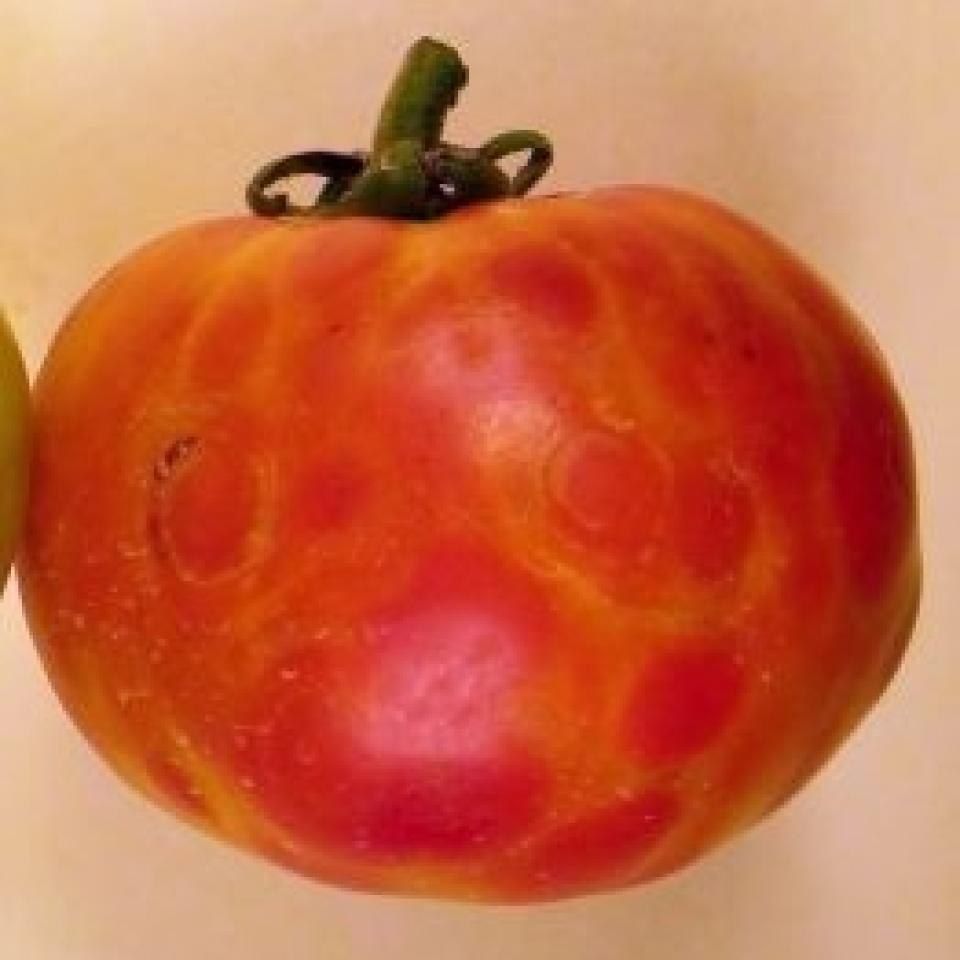Spotted wilt Virus: (17, 181, 922, 906)
